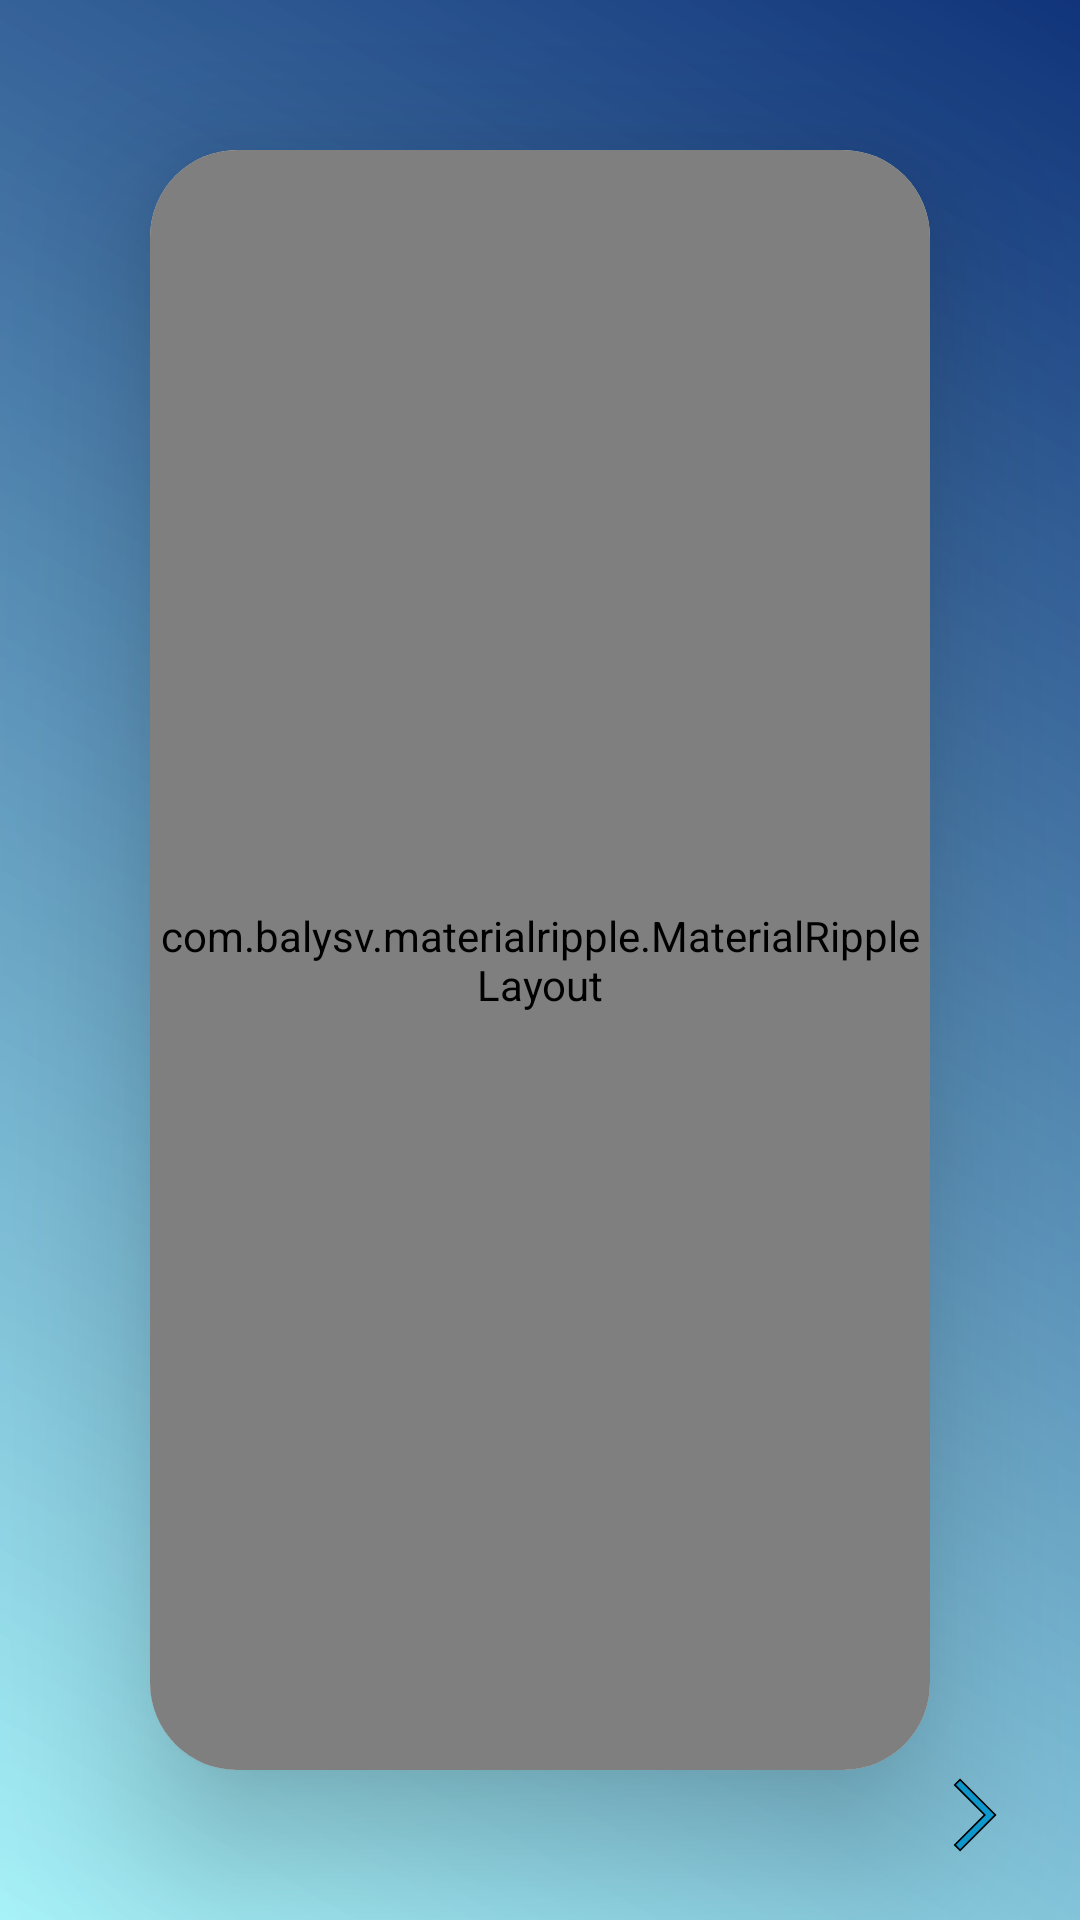

Where to tap for icons on this 1080 × 1920 app screen, as (x,y):
arrow: (975,1815)
